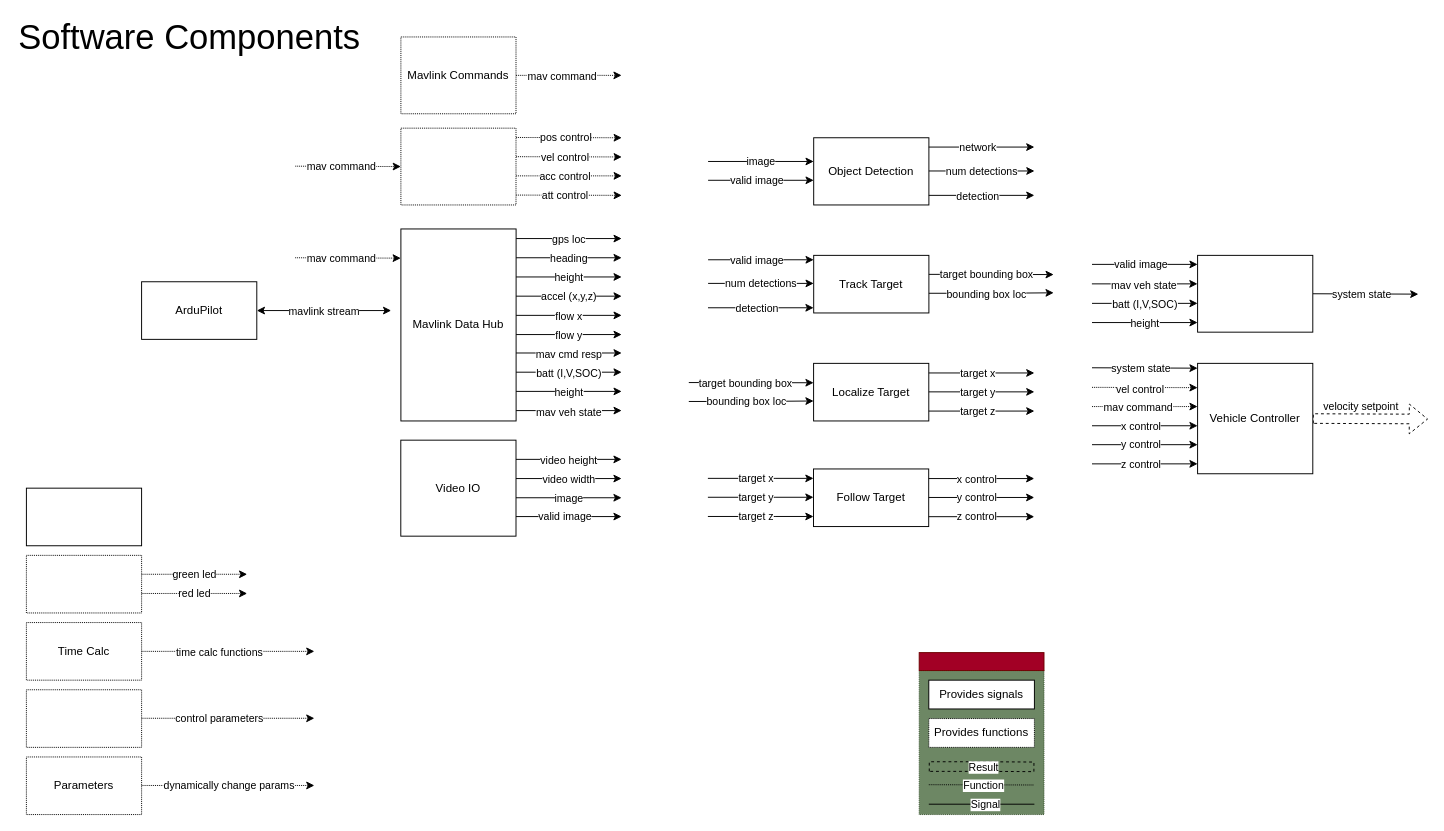
Some shapes in this 1444 by 831 pixel diagram are drawn without their labels. Each missing label, with the box of its shape:
Data log: (25, 487, 142, 546)
Jetson IO: (25, 554, 142, 613)
Legend: (918, 652, 1044, 671)
Mavlink Motion: (400, 127, 516, 205)
PID Controller: (25, 689, 142, 747)
System Controller: (1197, 254, 1313, 332)
